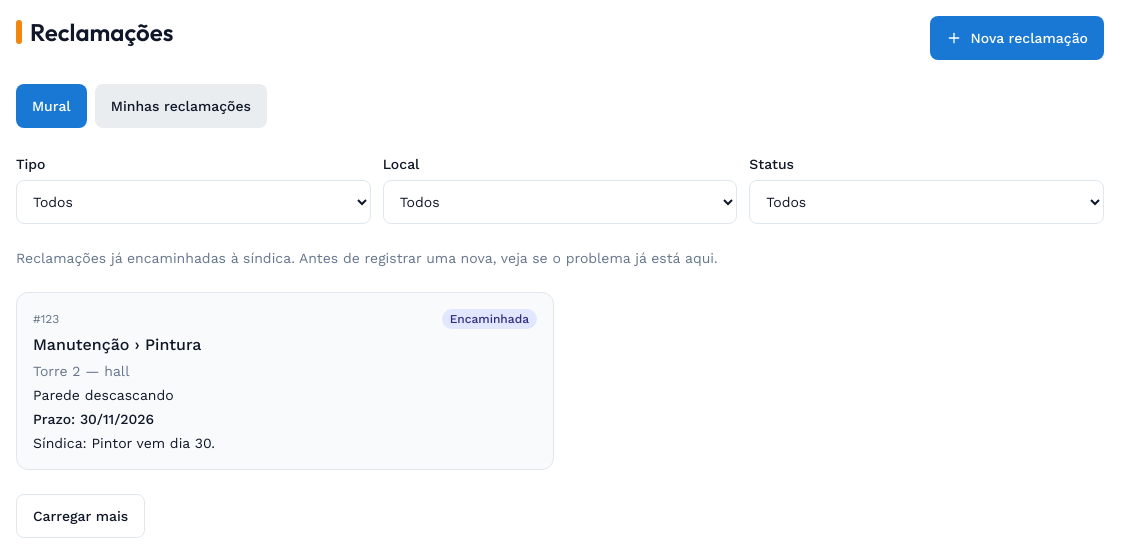
Test: ComplaintsPage › "Carregar mais" acrescenta a próxima página do mural
The image size is (1121, 555).
Check: the text "#123" is shown, box [33,311,59,327]
Click the button "Carregar mais".
click(81, 516)  # box [16,494,145,538]
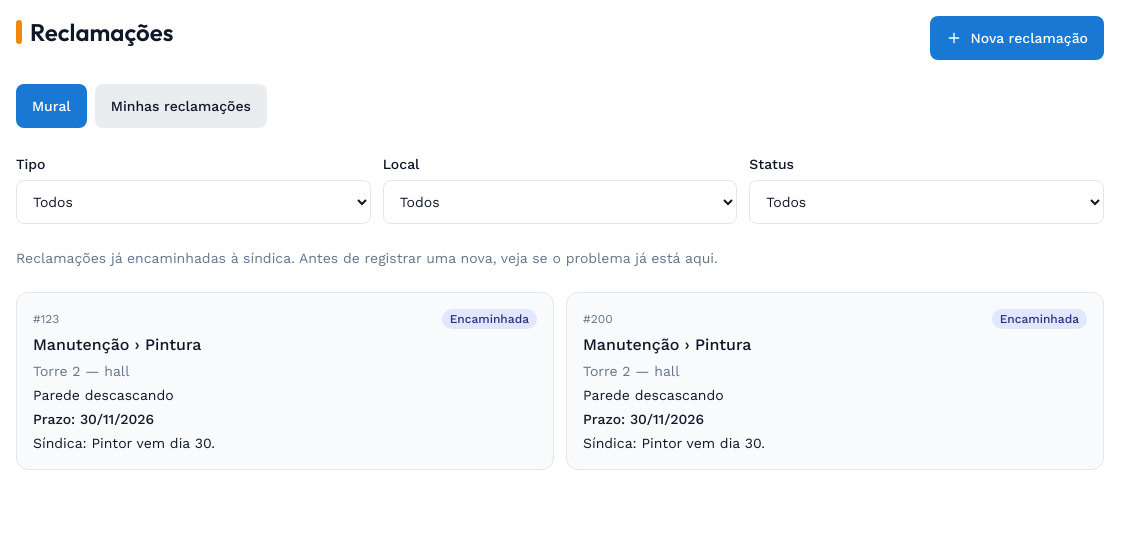
Check: the text "#123" is shown, box [33,311,59,327]
Check: the text "#200" is shown, box [583,311,613,327]
Check: the button "Carregar mais" is gone
